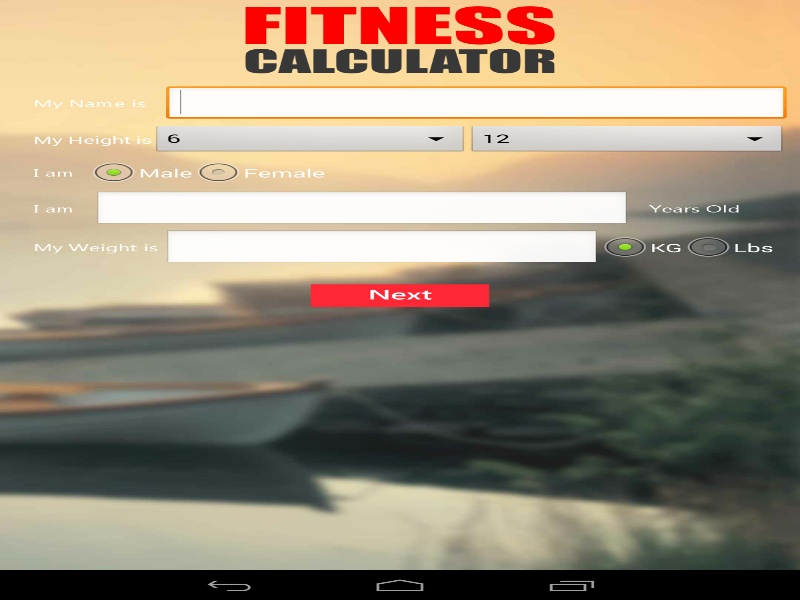Button: (310, 284, 489, 307)
Input: (166, 85, 786, 121), (94, 191, 629, 226), (164, 230, 599, 265)
